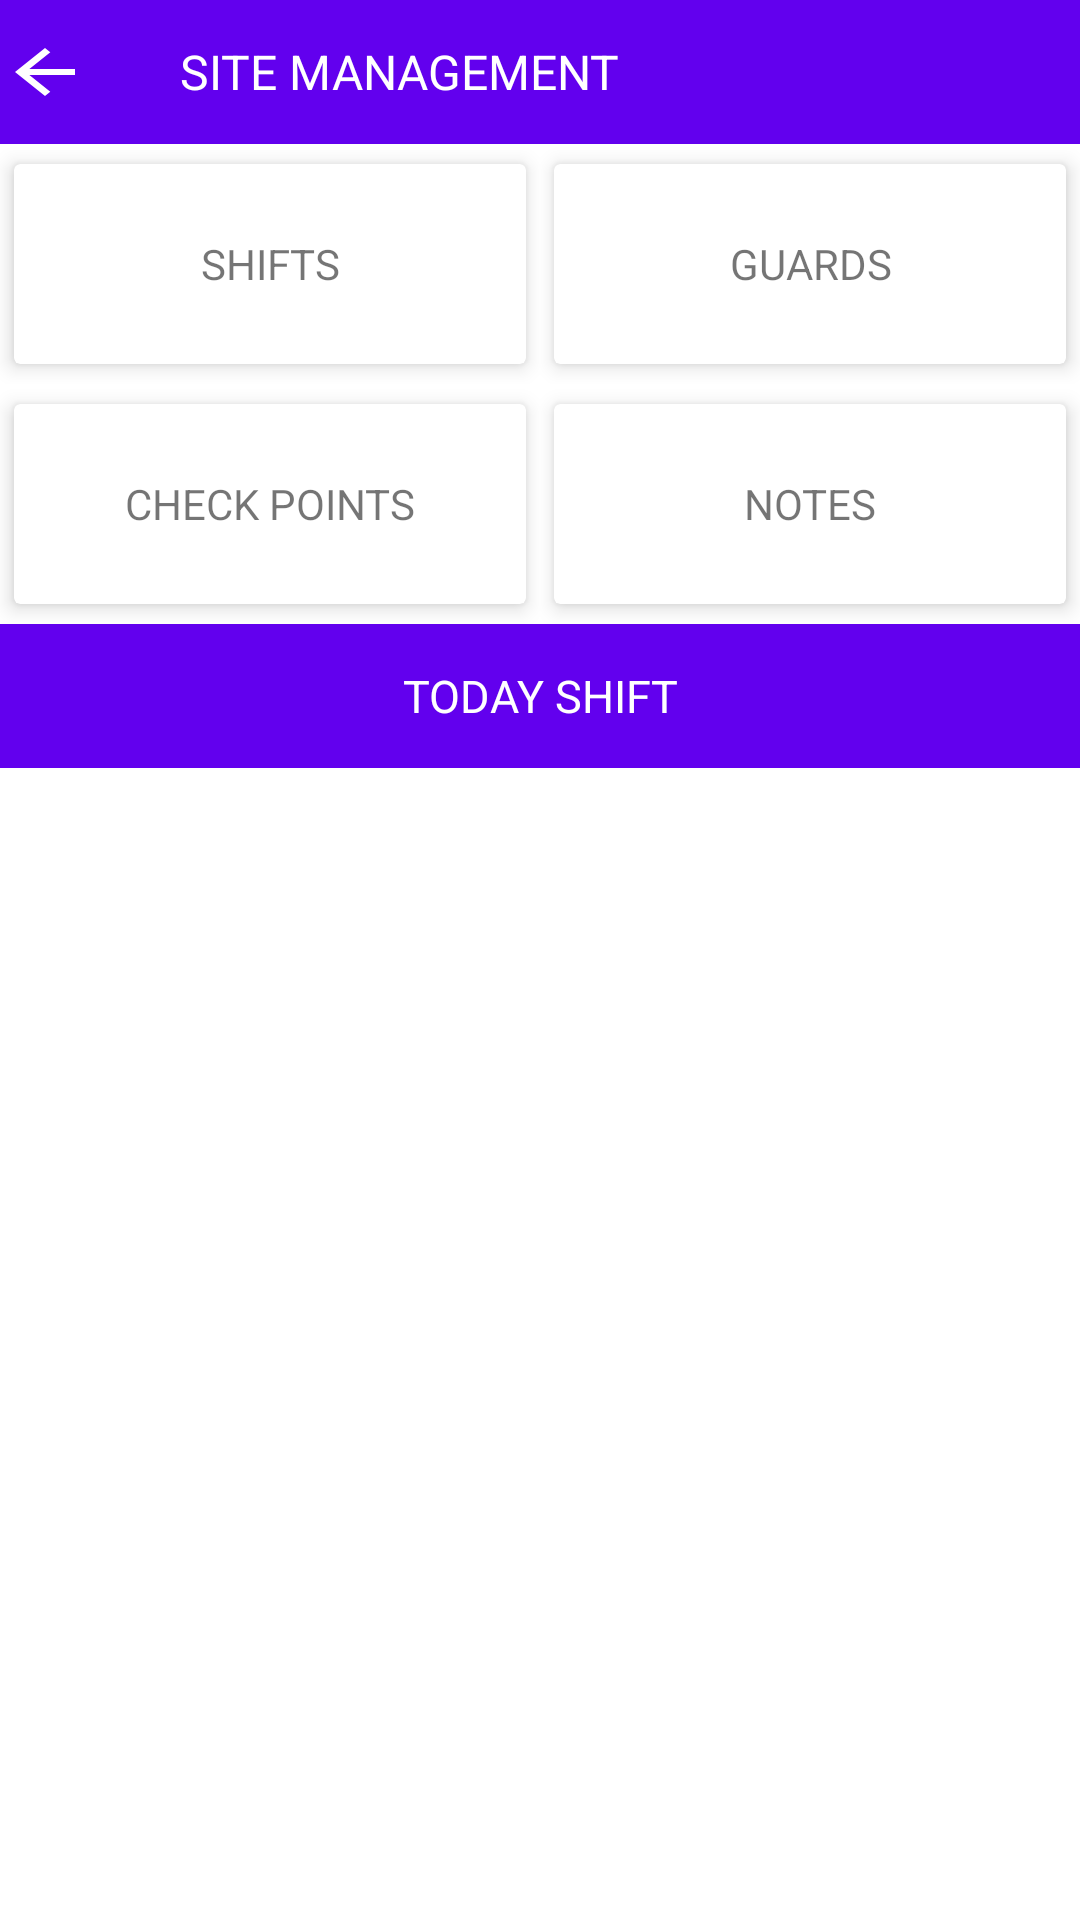

Screen size 1080px x 1920px. Icon name, then its center in pixels as (x=x, y=y):
backarrow: (x=45, y=72)
